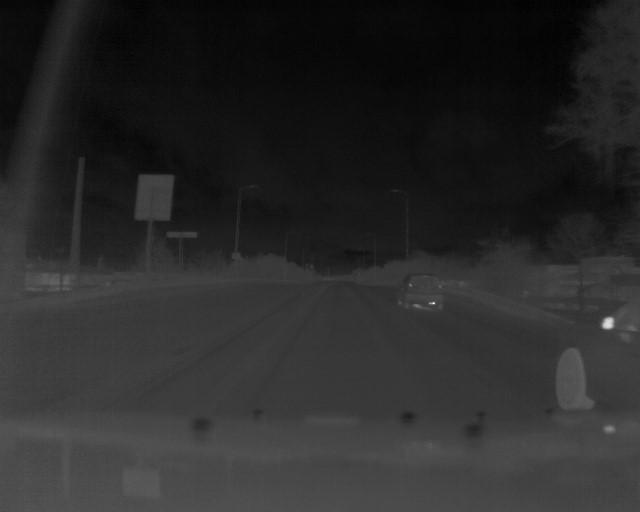car: (552, 293, 636, 424), (397, 271, 444, 310)
